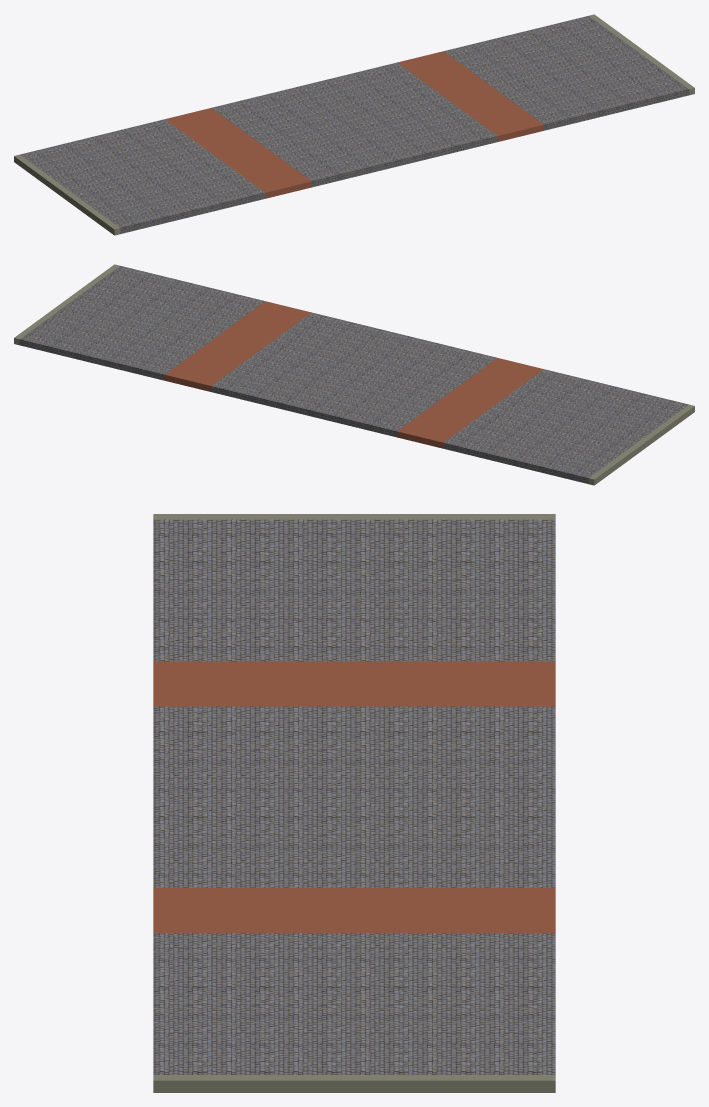
Rendered from body.fbx.
3 renders of one model, top to bottom at view 1: azimuth 30°, elevation 25°; view 2: azimuth 150°, elevation 25°; view 3: azimuth 270°, elevation 25°, orthographic. The views are drawn at different scales.
Parts seen in each view (by area): view 1: body.014; view 2: body.014; view 3: body.014.
Part boxes in pixels (box(x1,y1,x2,y2)): body.014: box(14, 14, 694, 235); body.014: box(14, 264, 694, 485); body.014: box(153, 514, 555, 1092).
Size of the model in its own units: 20 by 0.2 by 6.
